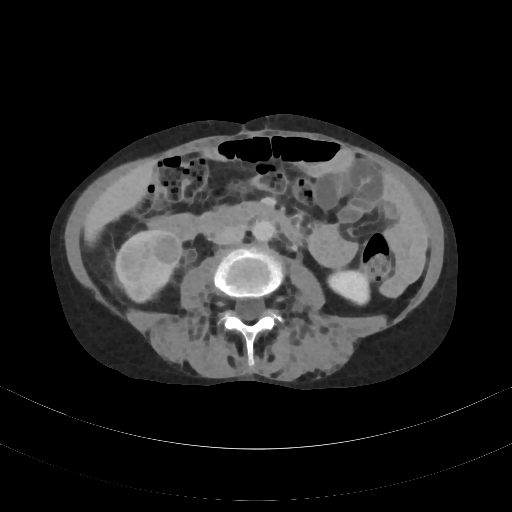Lesion: (151, 233, 181, 266), (126, 280, 153, 304)
